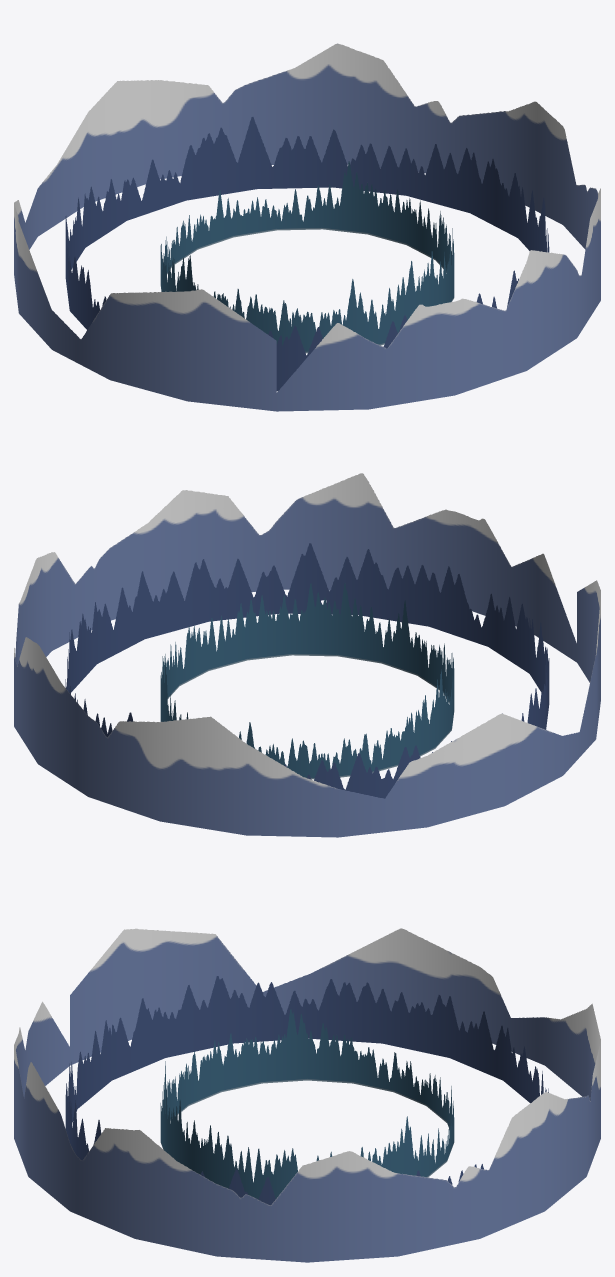
Rendered from background.fbx.
3 views of the same model, one above another, from view 1: azimuth 30°, elevation 25°; view 2: azimuth 150°, elevation 25°; view 3: azimuth 270°, elevation 25° (orthographic).
Parts seen in each view (by area): view 1: background; view 2: background; view 3: background.
Boxes of the visible parts, bbox=[...] form: background: bbox=[14, 43, 600, 411]; background: bbox=[14, 473, 600, 837]; background: bbox=[14, 928, 600, 1262].
Size of the model in its own units: 10994 by 3167 by 10994.
Materials: 3 (3 with a texture image).
